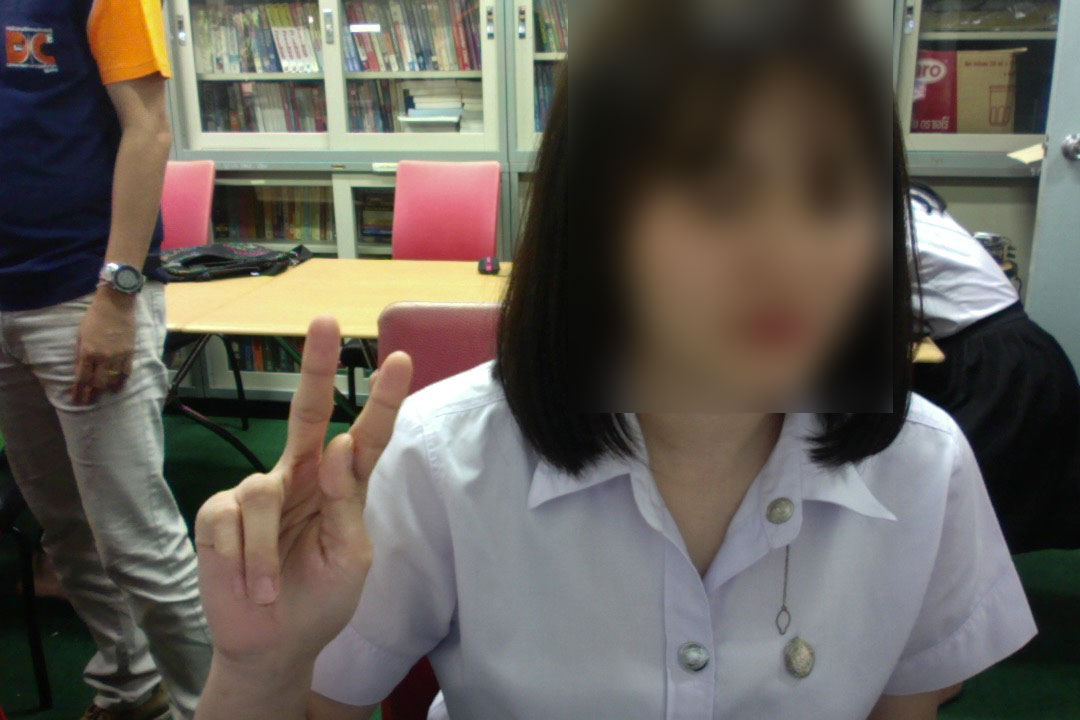ko: (181, 309, 424, 682)
